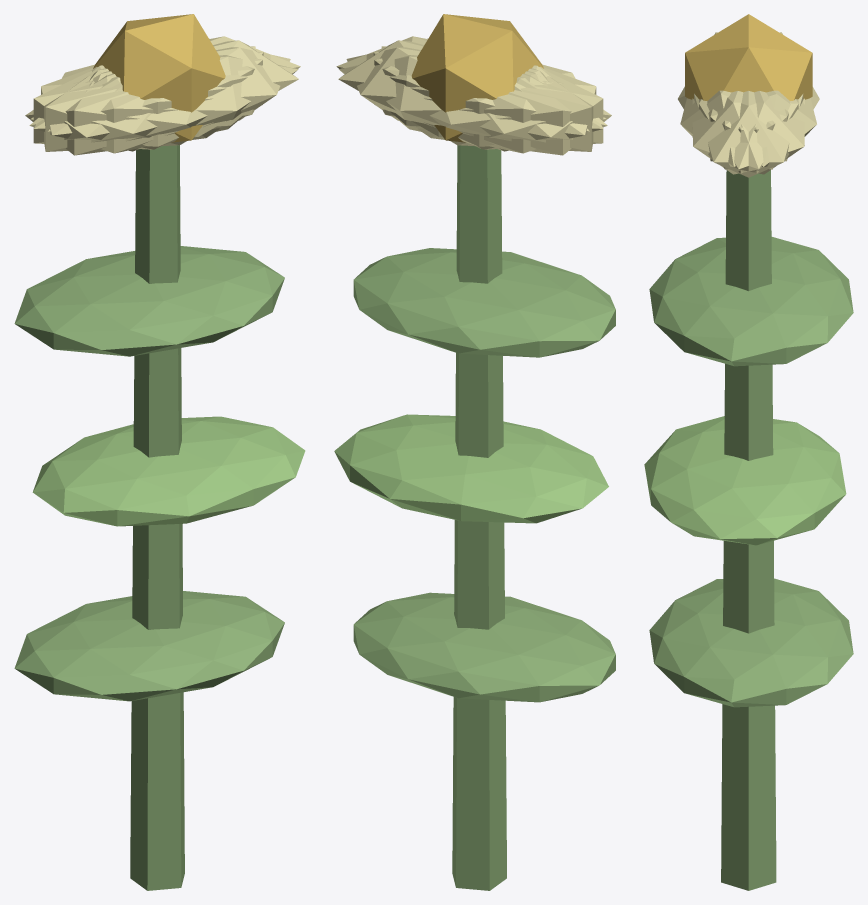
File: lepidagathis-inaequalis.glb
The picture shows the model from 3 angles, left to right: view 1: azimuth 30°, elevation 25°; view 2: azimuth 150°, elevation 25°; view 3: azimuth 270°, elevation 25°; orthographic projection.
Parts seen in each view (by area): view 1: stem, leaf2, leaf1, leaf0, center, petal1, petal6, petal2, petal5, petal7, petal0, petal4 (+2 smaller); view 2: stem, leaf2, leaf0, leaf1, center, petal8, petal3, petal7, petal4, petal2, petal0, petal5 (+2 smaller); view 3: stem, leaf1, leaf2, leaf0, center, petal0, petal5, petal4, petal8, petal1.
Boxes of the visible parts, x1,y1,x2,y2 form: stem: [130, 145, 184, 890]; leaf2: [14, 246, 284, 356]; leaf1: [32, 416, 305, 526]; leaf0: [14, 591, 284, 701]; center: [93, 14, 225, 142]; petal1: [29, 55, 298, 153]; petal6: [25, 67, 219, 155]; petal2: [44, 46, 255, 151]; petal5: [47, 47, 290, 146]; petal7: [33, 52, 263, 149]; petal0: [93, 40, 298, 137]; petal4: [30, 36, 300, 129]; stem: [452, 145, 506, 890]; leaf2: [353, 248, 615, 357]; leaf0: [353, 592, 615, 702]; leaf1: [334, 414, 608, 523]; center: [411, 14, 543, 142]; petal8: [339, 55, 607, 153]; petal3: [417, 67, 611, 155]; petal7: [381, 46, 593, 151]; petal4: [346, 47, 589, 146]; petal2: [373, 52, 603, 149]; petal0: [338, 40, 544, 137]; petal5: [336, 36, 606, 128]; stem: [721, 170, 776, 890]; leaf1: [644, 416, 846, 545]; leaf2: [649, 237, 853, 366]; leaf0: [649, 578, 853, 707]; center: [685, 14, 812, 100]; petal0: [694, 91, 803, 177]; petal5: [692, 91, 798, 174]; petal4: [699, 91, 804, 174]; petal8: [708, 90, 816, 166]; petal1: [680, 90, 788, 166].
Size of the model in its own units: 0.1481 by 0.4496 by 0.1006.
